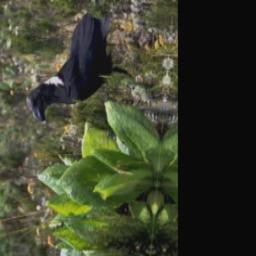Crow: (23, 7, 138, 132)
